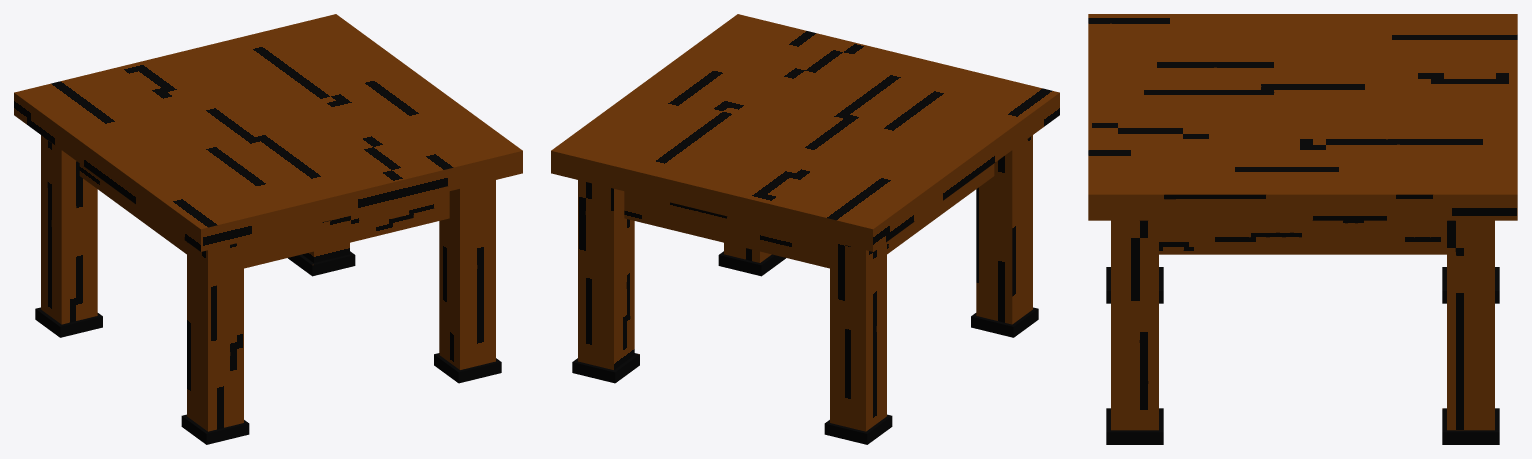
Rendered from ObjectsForThereWFR(TableText).fbx.
3 renders of one model, left to right at view 1: azimuth 30°, elevation 25°; view 2: azimuth 150°, elevation 25°; view 3: azimuth 270°, elevation 25°, orthographic. The views are drawn at different scales.
Parts seen in each view (by area): view 1: Cube.003; view 2: Cube.003; view 3: Cube.003.
Part boxes in pixels (x1,y1,x2,y2): Cube.003: (14,14,522,444); Cube.003: (551,14,1059,444); Cube.003: (1088,14,1517,444).
Bounding box in the file's own units: 1000 × 666 × 1004.
